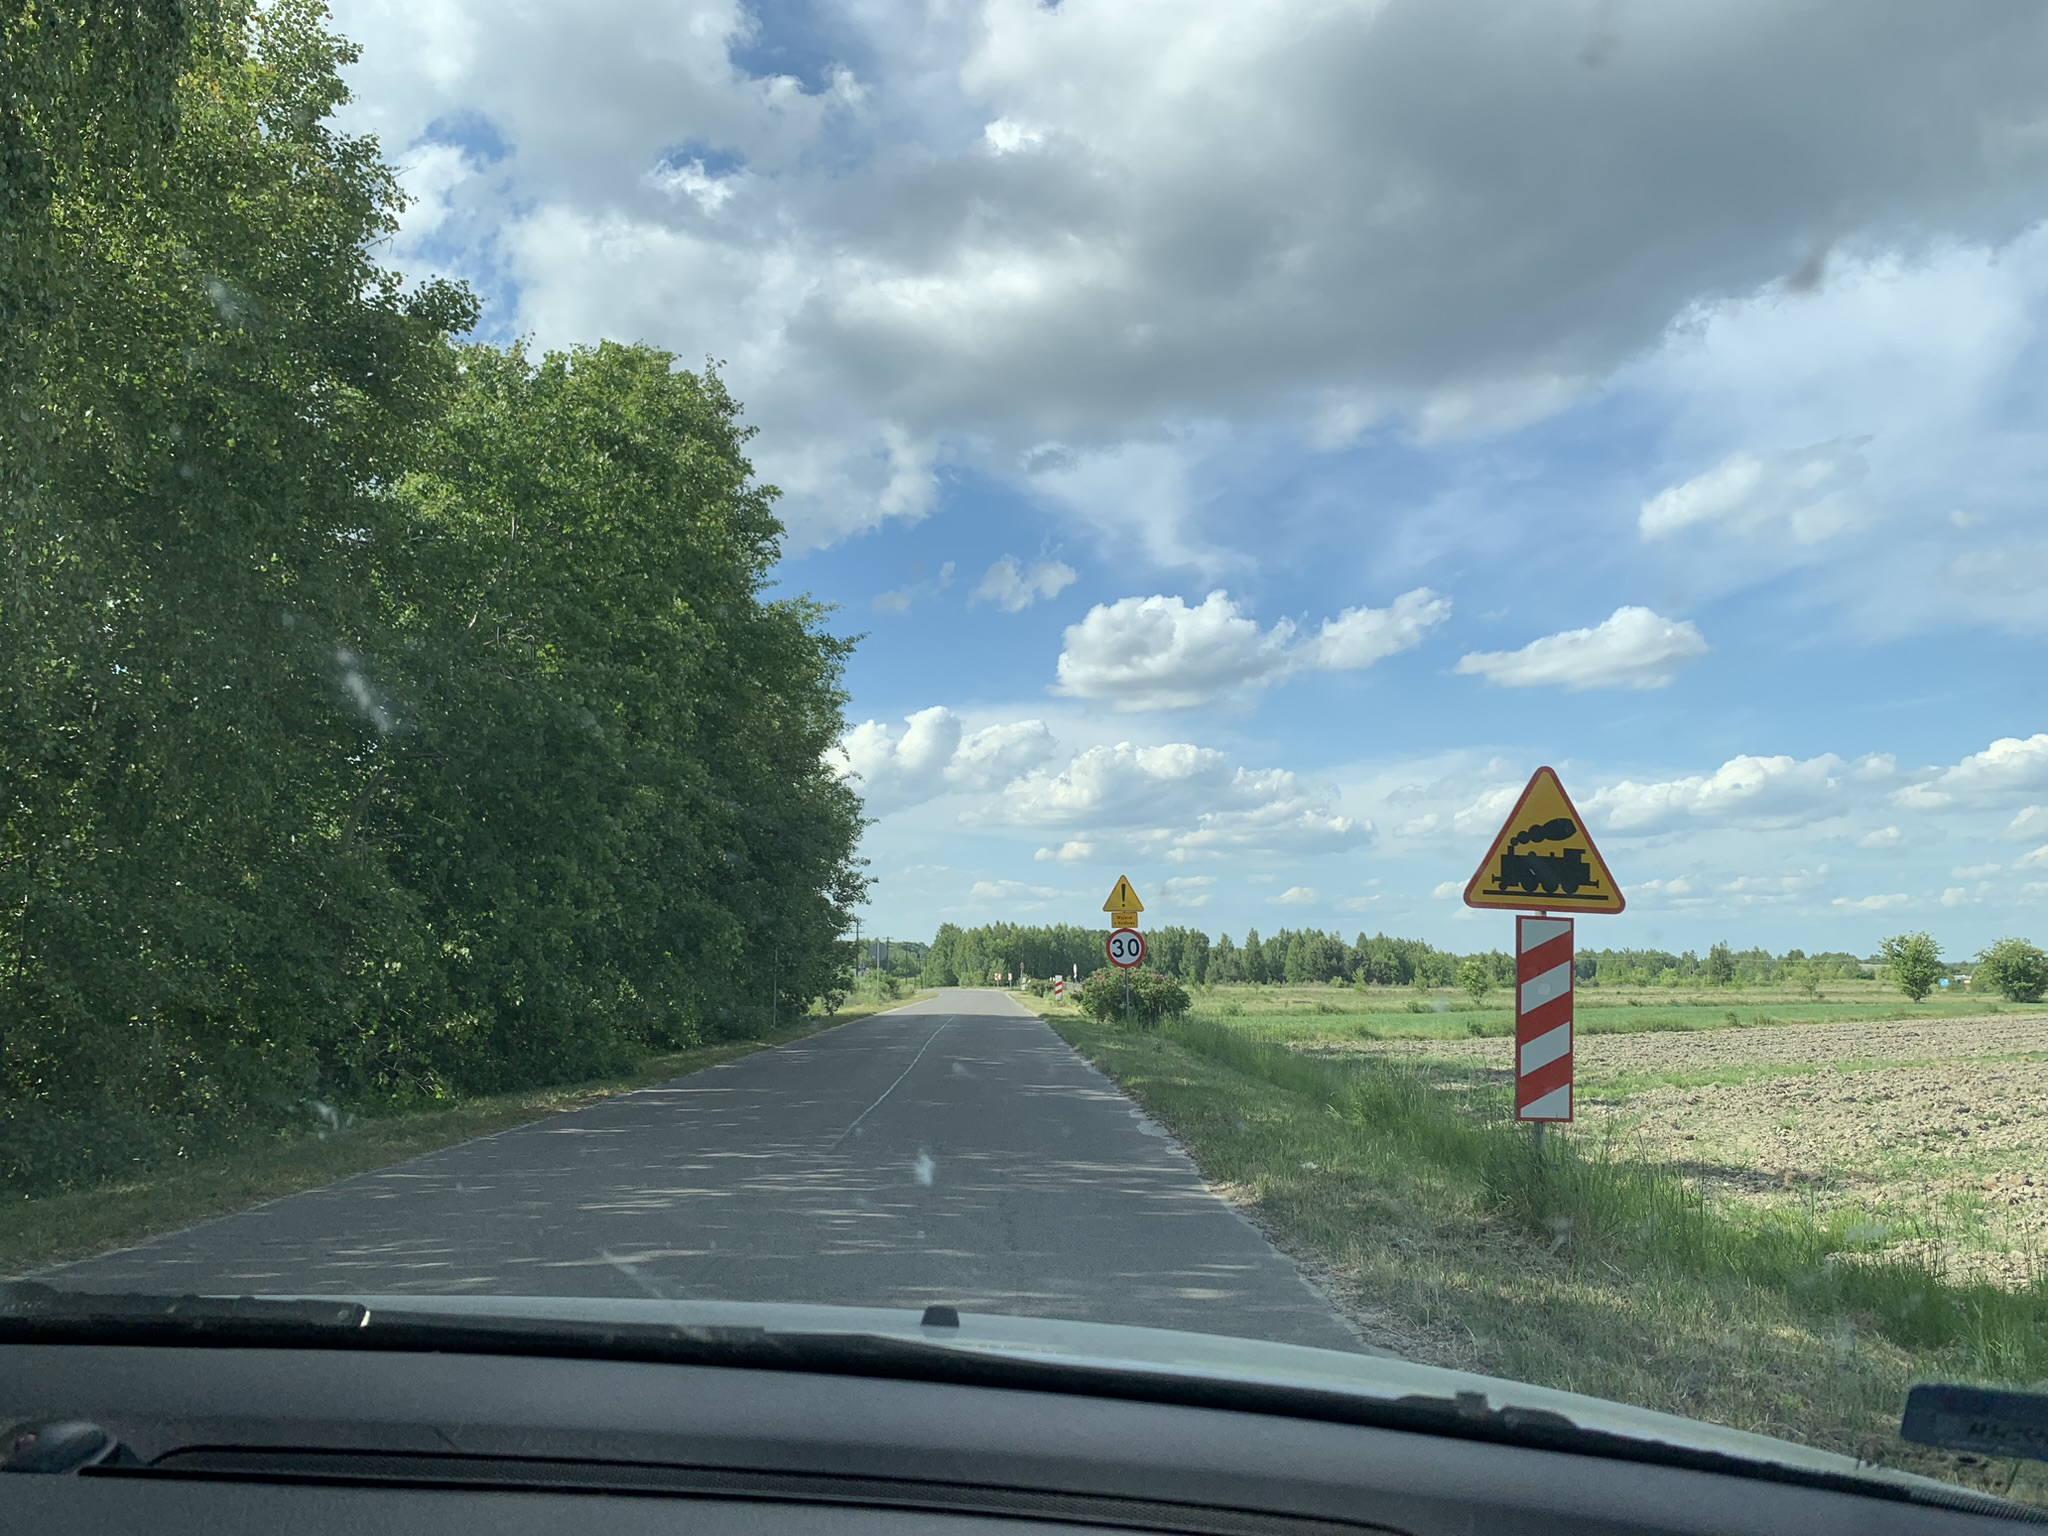a10: (1480, 815, 1614, 904)
